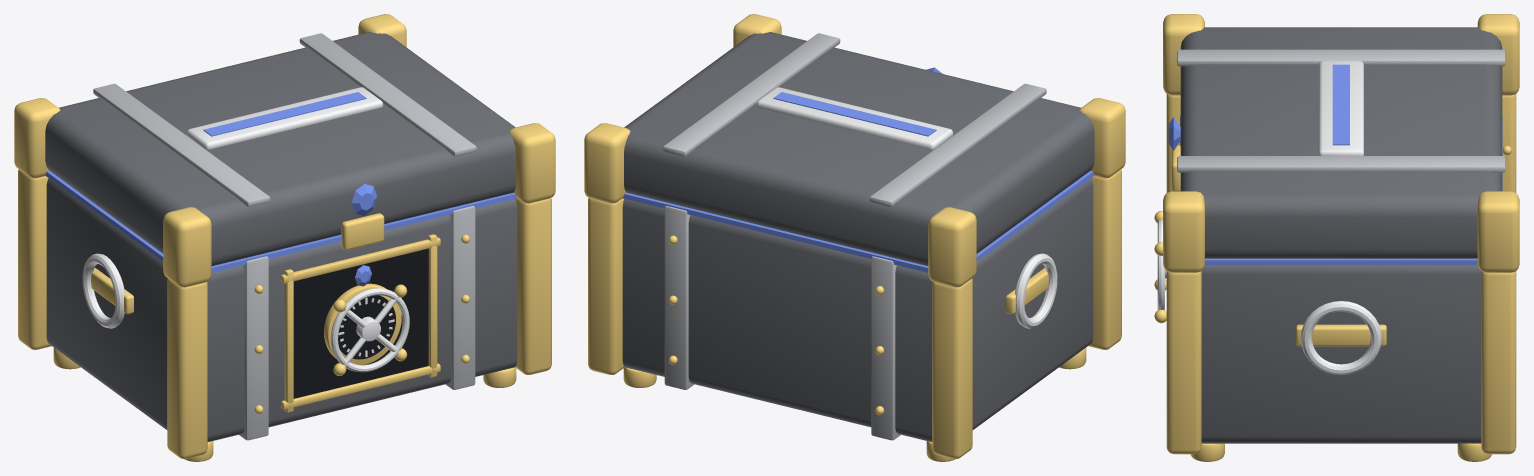
File: SM_DepositChest_Indigo.fbx
3 renders of one model, left to right at view 1: azimuth 30°, elevation 25°; view 2: azimuth 150°, elevation 25°; view 3: azimuth 270°, elevation 25°, orthographic. The views are drawn at different scales.
Visible parts, largest first — view 1: SM_DepositChest_Indigo, Lid; view 2: SM_DepositChest_Indigo, Lid; view 3: Lid, SM_DepositChest_Indigo.
Boxes of the visible parts, x1,y1,x2,y2 form: SM_DepositChest_Indigo: (18, 169, 551, 461); Lid: (14, 14, 555, 287); SM_DepositChest_Indigo: (588, 169, 1121, 461); Lid: (584, 14, 1125, 287); Lid: (1163, 14, 1519, 272); SM_DepositChest_Indigo: (1154, 94, 1516, 461).
Bounding box in the file's own units: 1.32 × 0.863 × 1.04.
